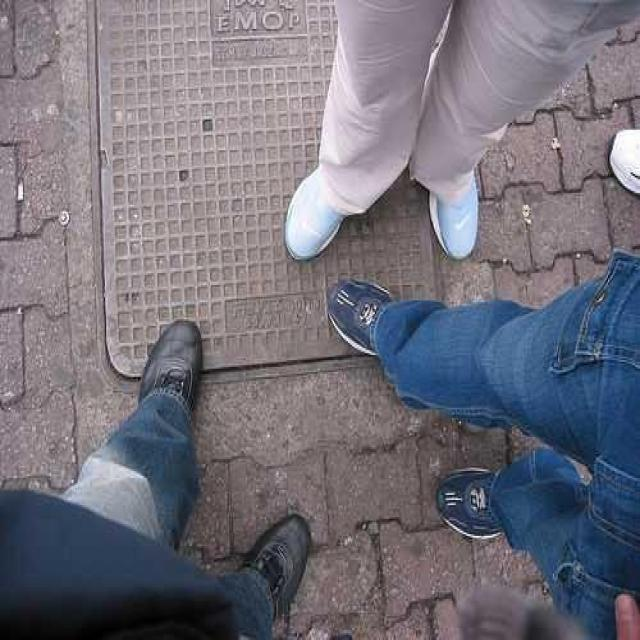manhole: (100, 2, 438, 374)
